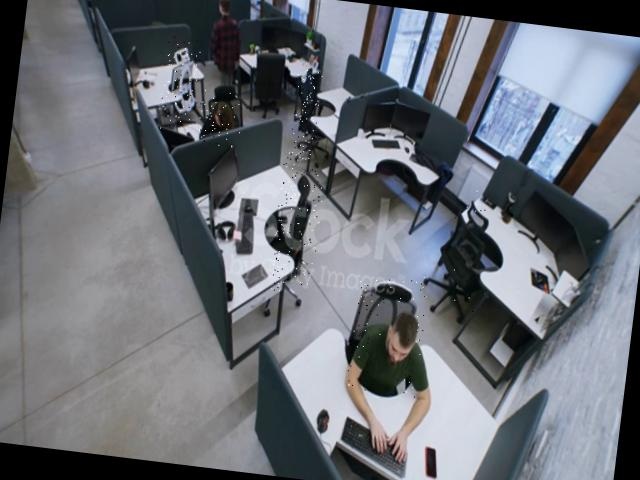empty chair: (268, 164, 326, 296), (442, 186, 488, 314), (156, 36, 204, 133), (286, 68, 322, 162), (247, 44, 290, 118)
occupiedchair: (344, 268, 430, 398), (186, 85, 246, 160)
